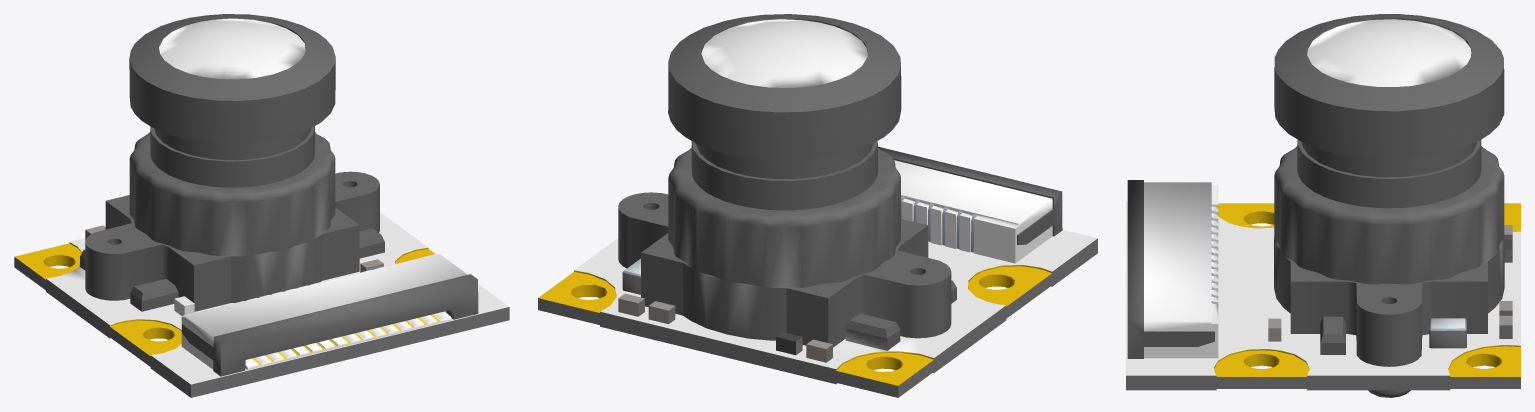
File: rpi_camera.obj
The picture shows the model from 3 angles, left to right: view 1: azimuth 30°, elevation 25°; view 2: azimuth 150°, elevation 25°; view 3: azimuth 270°, elevation 25°; orthographic projection. The views are drawn at different scales.
Parts seen in each view (by area): view 1: rpi_camera; view 2: rpi_camera; view 3: rpi_camera.
Part boxes in pixels (bbox=[...]): rpi_camera: bbox=[14, 14, 509, 397]; rpi_camera: bbox=[538, 14, 1097, 397]; rpi_camera: bbox=[1126, 14, 1520, 397].
Size of the model in its own units: 0.025 by 0.0192 by 0.024.
